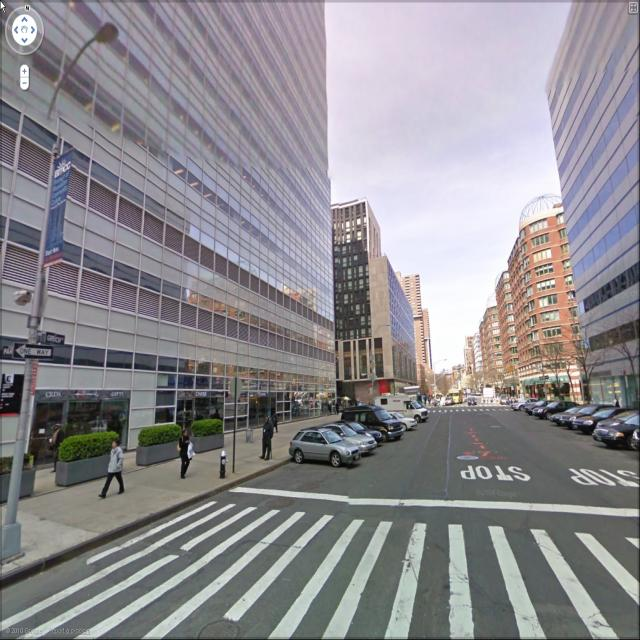b_1: (1, 3, 331, 397), (551, 9, 640, 367), (321, 200, 395, 400), (367, 266, 421, 404), (497, 264, 539, 396), (402, 264, 439, 400), (468, 315, 496, 387), (490, 288, 509, 388)
b_2: (547, 70, 640, 398)
